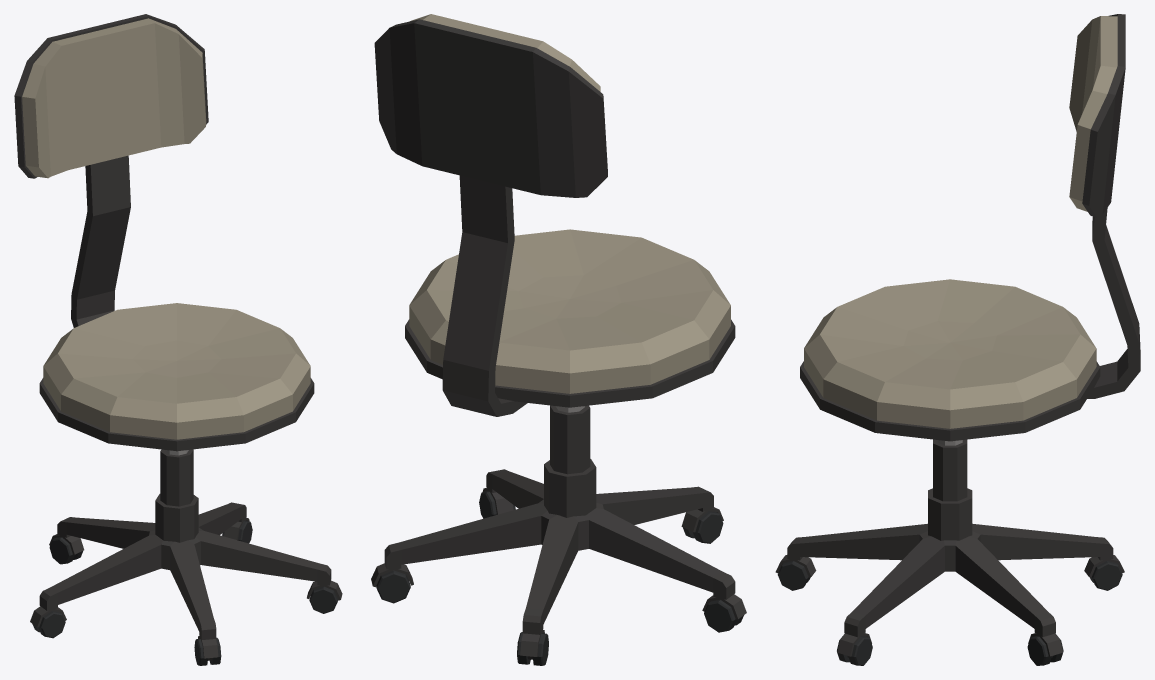
The model's file is SM_Props_Interior_Generic_Office_Chair_02.fbx.
3 renders of one model, left to right at view 1: azimuth 30°, elevation 25°; view 2: azimuth 150°, elevation 25°; view 3: azimuth 270°, elevation 25°, orthographic. The views are drawn at different scales.
Parts seen in each view (by area): view 1: SM_Props_Interior_Generic_Office_Chair_02_Seat, SM_Props_Interior_Generic_Office_Chair_02; view 2: SM_Props_Interior_Generic_Office_Chair_02_Seat, SM_Props_Interior_Generic_Office_Chair_02; view 3: SM_Props_Interior_Generic_Office_Chair_02_Seat, SM_Props_Interior_Generic_Office_Chair_02.
Boxes of the visible parts, x1,y1,x2,y2 form: SM_Props_Interior_Generic_Office_Chair_02_Seat: [14, 14, 314, 451]; SM_Props_Interior_Generic_Office_Chair_02: [30, 449, 342, 665]; SM_Props_Interior_Generic_Office_Chair_02_Seat: [374, 14, 735, 416]; SM_Props_Interior_Generic_Office_Chair_02: [371, 405, 746, 665]; SM_Props_Interior_Generic_Office_Chair_02_Seat: [800, 14, 1140, 441]; SM_Props_Interior_Generic_Office_Chair_02: [775, 439, 1124, 665].
Size of the model in its own units: 55.33 by 104 by 60.77.
